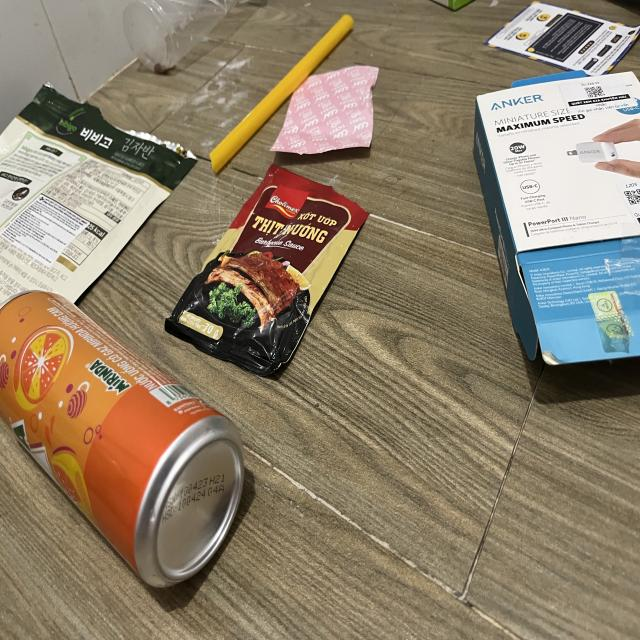can: (0, 289, 245, 588)
cardboard box: (475, 72, 640, 382)
drinking straw: (209, 13, 354, 175)
packet: (163, 158, 369, 379)
paper: (484, 0, 640, 75), (271, 65, 377, 154)
snack package: (0, 84, 197, 308)
